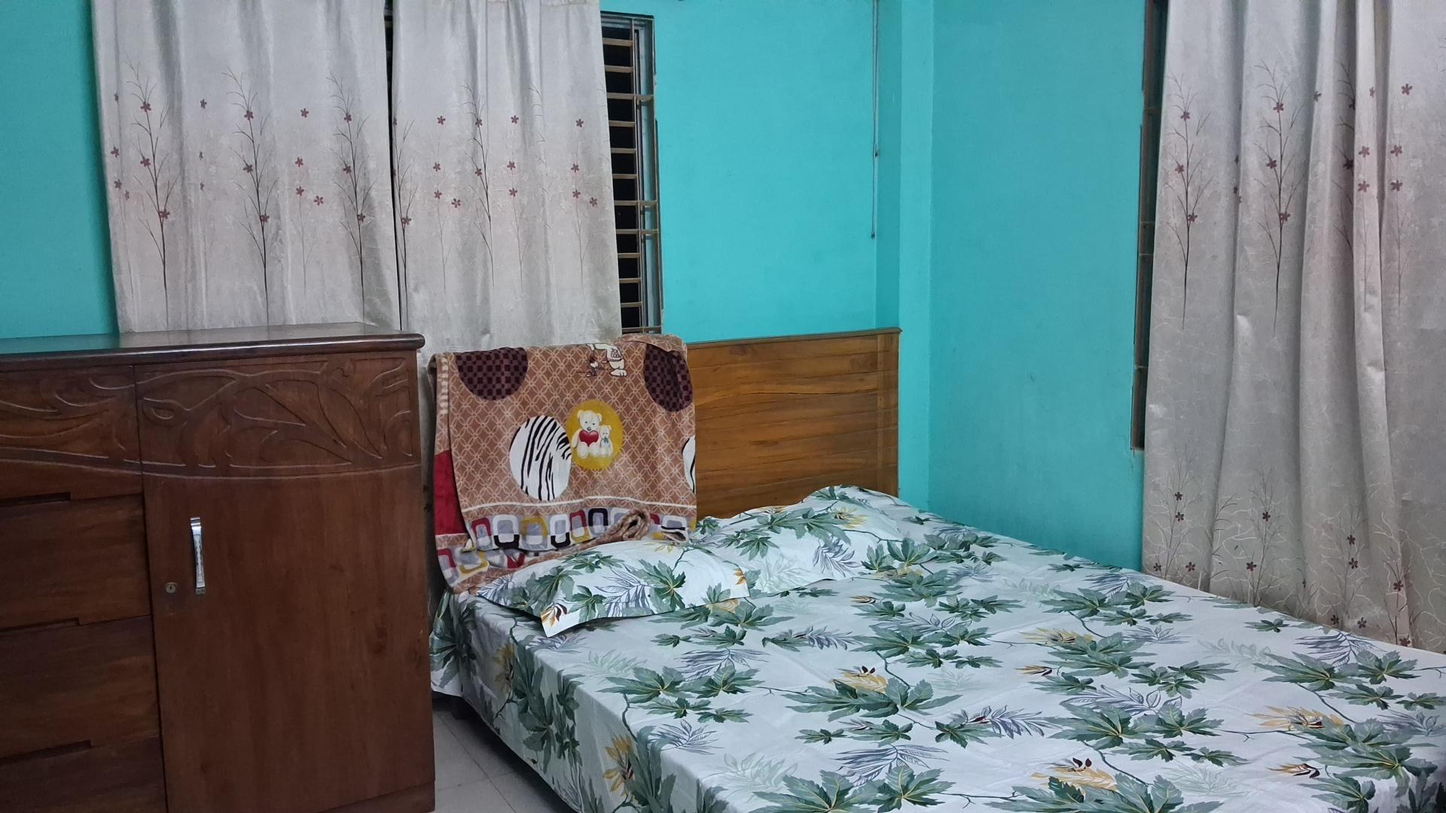Blanket: (428, 340, 695, 536)
Pillow: (507, 548, 750, 626), (703, 505, 935, 584)
